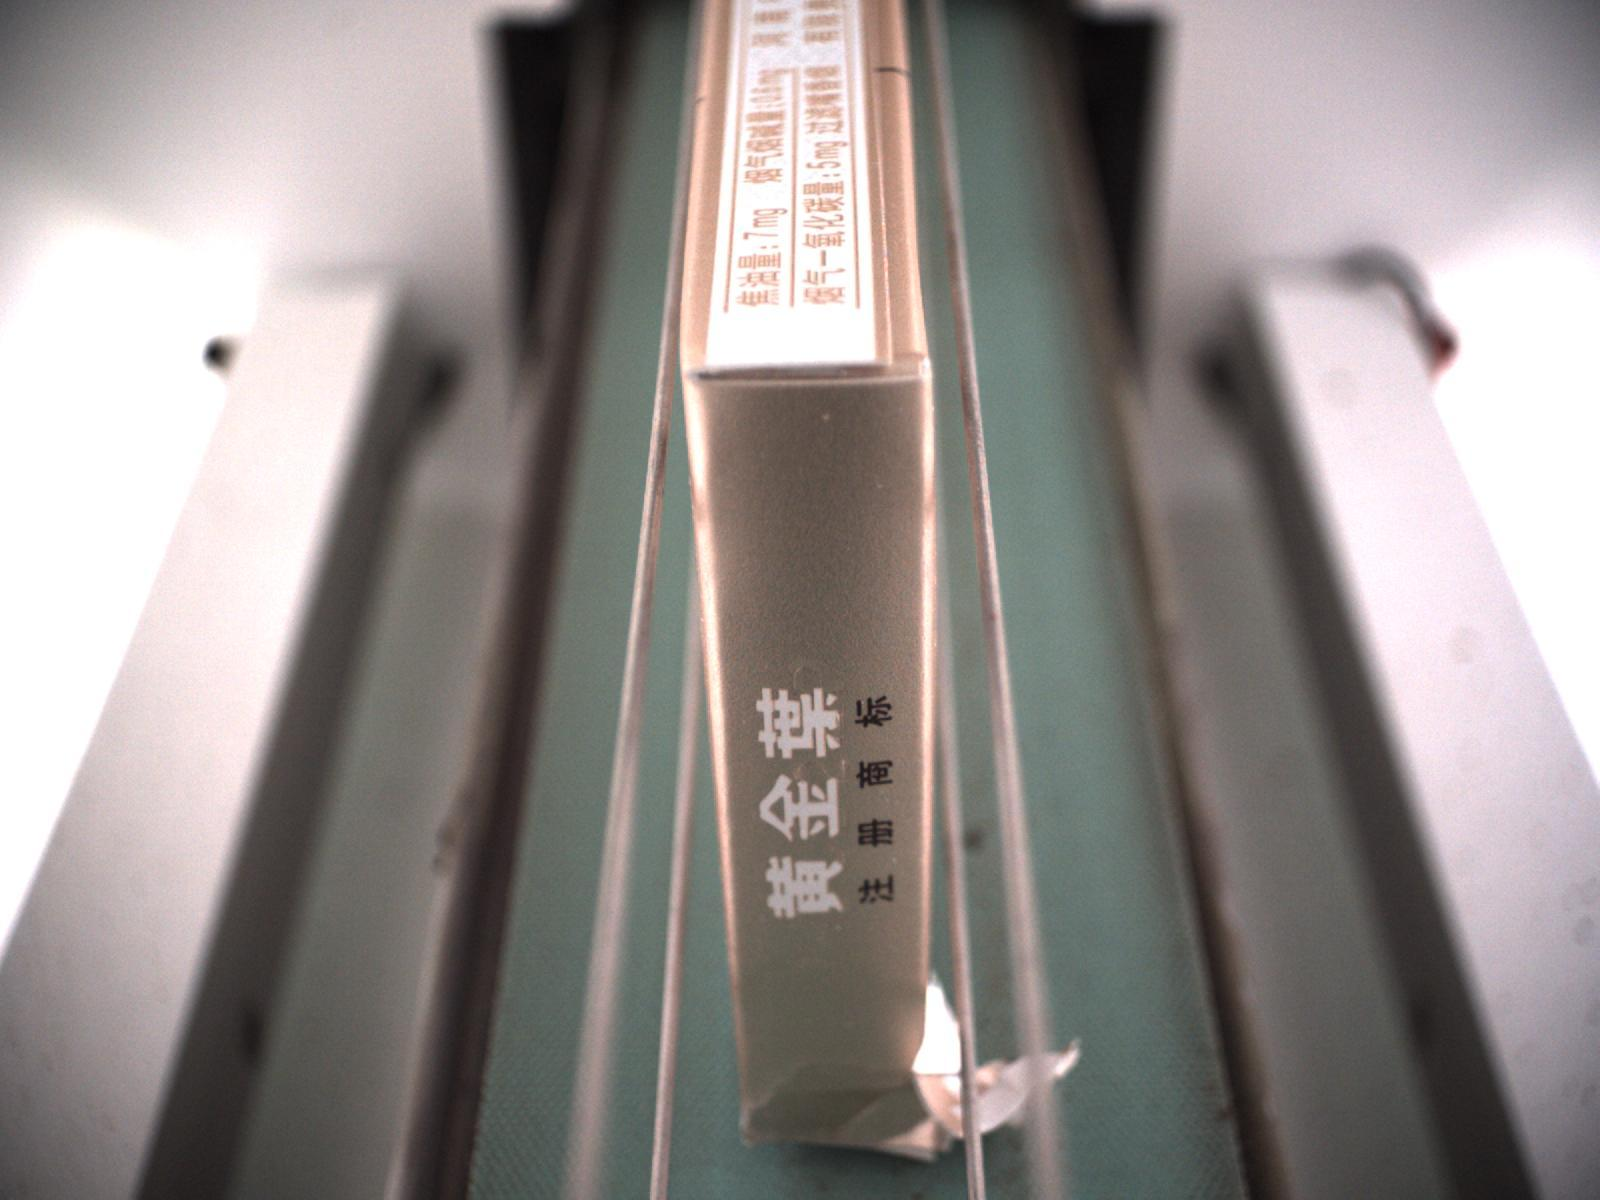bottomUpwarp_upper_3: (687, 353, 929, 386)
skewed_upper_3: (859, 1, 932, 388)
